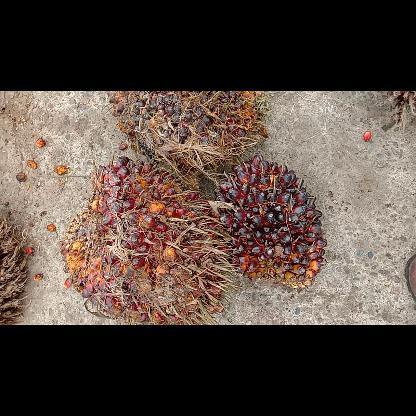Kurang masak: (211, 154, 325, 288), (105, 92, 268, 168)
TBS masak: (60, 155, 232, 323)
